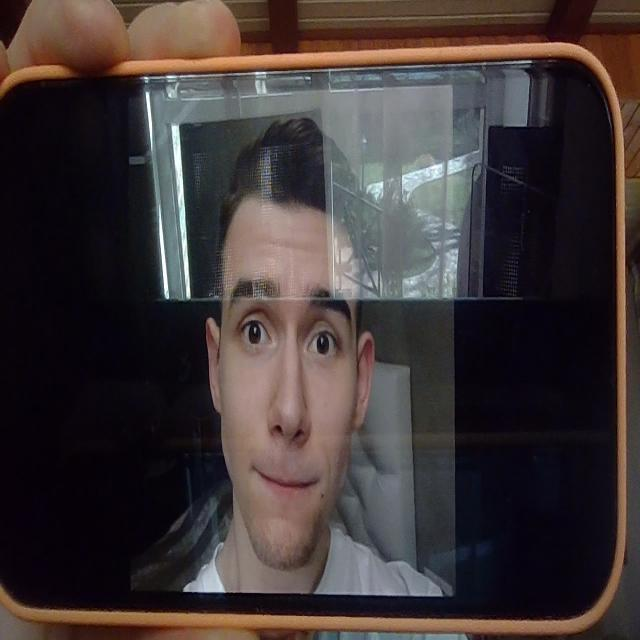bottle: (0, 53, 629, 631)
